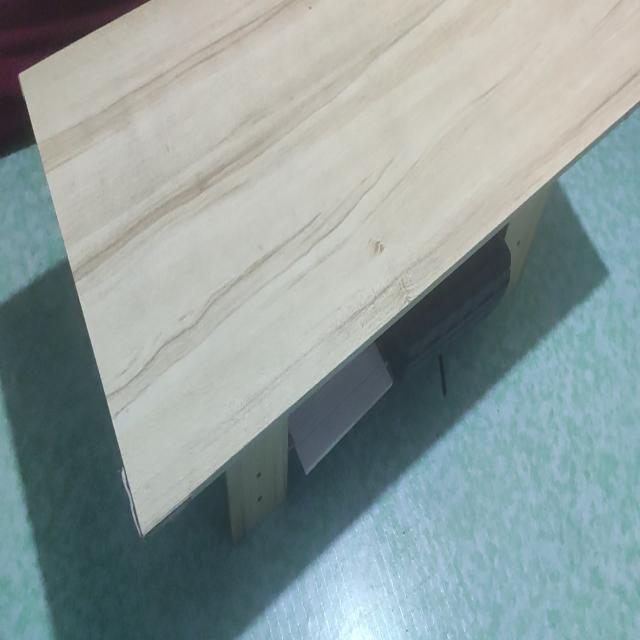table: (17, 0, 640, 545)
